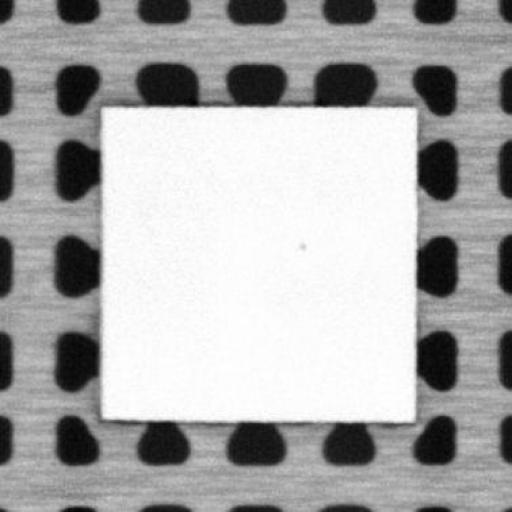DIE_INK: (295, 238, 305, 250)
